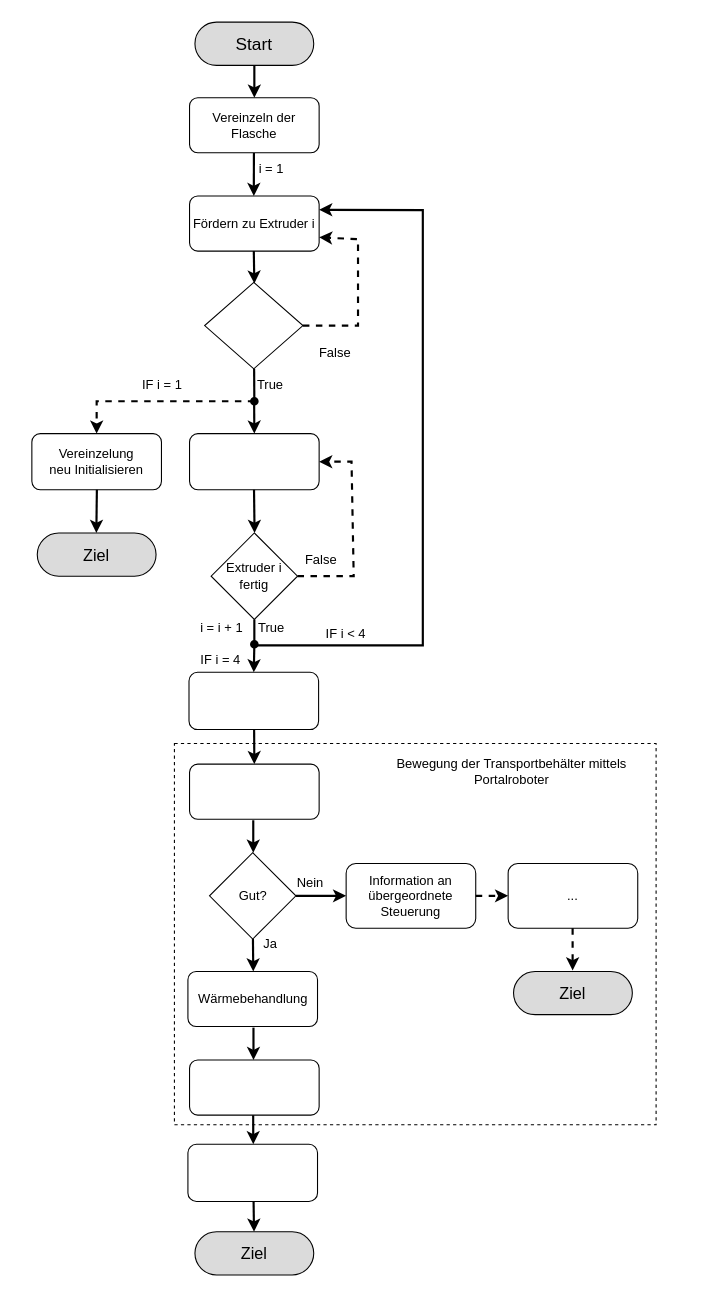
The diagram is 717 pixels wide and 1300 high, and some of its shapes have lost their labels. Each missing label, with the centre of its shape:
"Bewegung zur Home Position" goes at [252,1172].
"Extruder i Start" goes at [253,461].
"Qualitätskontrolle" goes at [253,791].
"Sensor Extruder i" goes at [253,325].
"Zwischenlager" goes at [253,1087].
"Übergabe zu Portalroboter" goes at [253,700].
